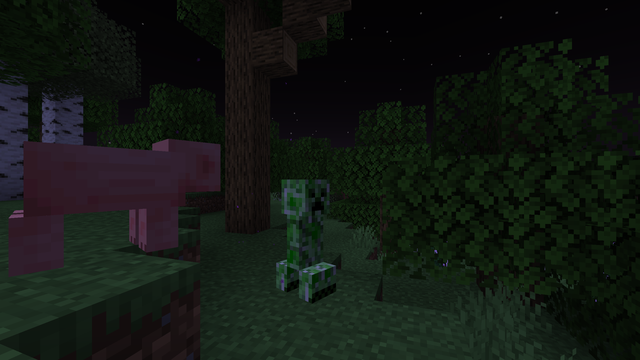cochons: (9, 137, 192, 274)
creepers: (277, 173, 330, 300)
